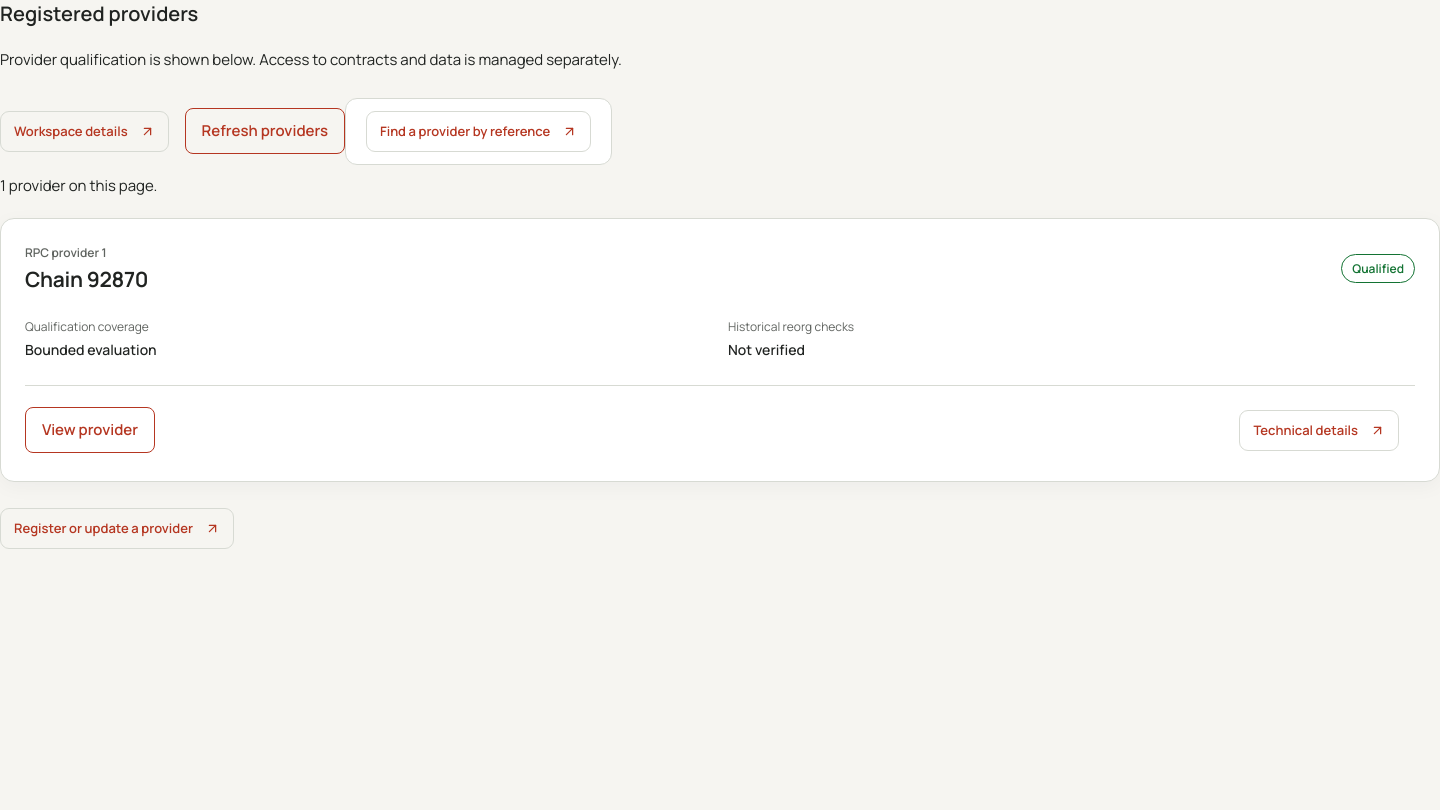
Scenario: selects an actual provider record without typing a reference or issuing a command
Expected: the heading "Chain 92870" is shown, [25, 266, 148, 294]
Expected: the text "Bounded evaluation" is shown, [25, 340, 157, 359]
Click the button with aria-label "View provider 1 for chain 92870" at (90, 430), box [25, 408, 155, 454]
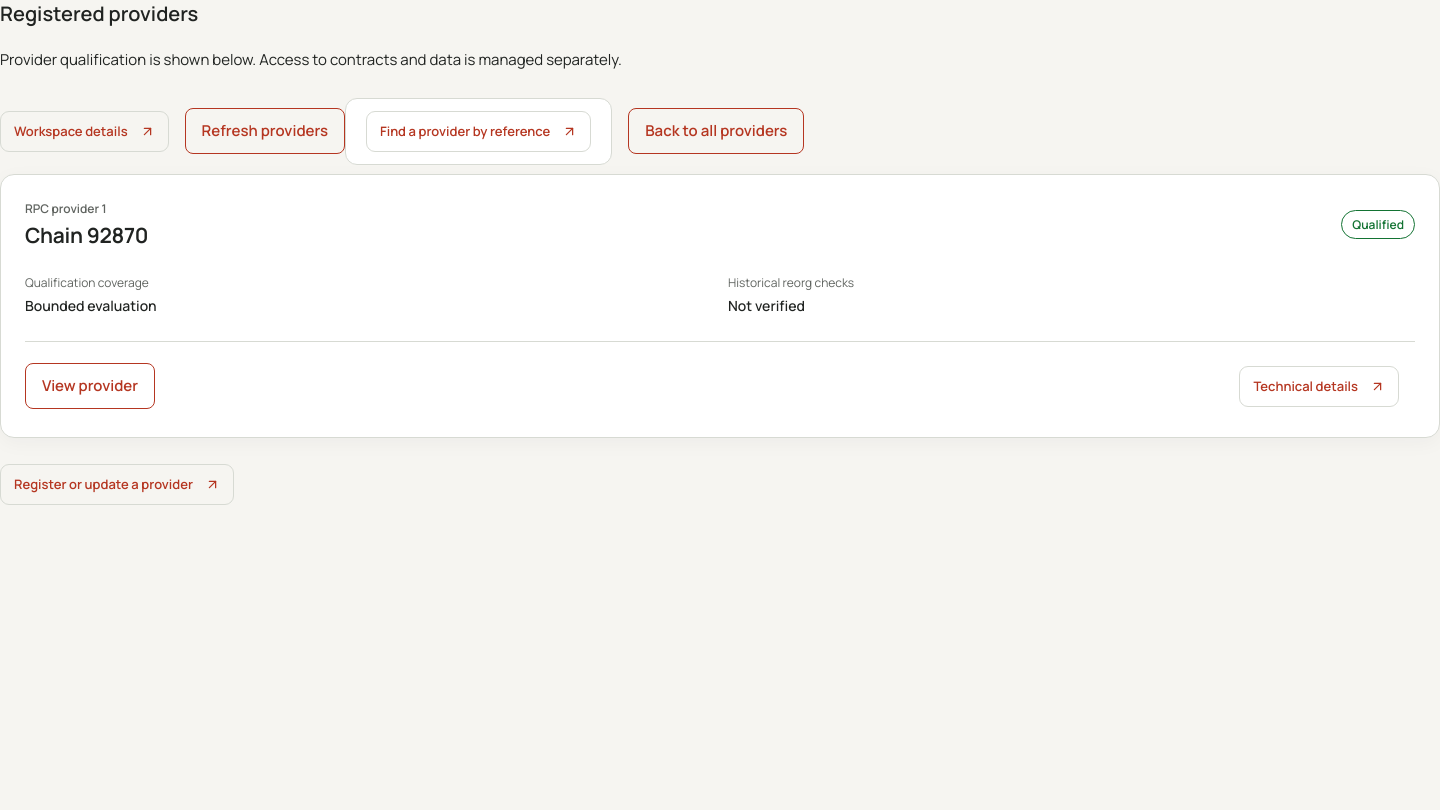
Expected: the heading "Chain 92870" is shown, [25, 222, 148, 250]
Click the button "Technical details" at (1319, 386), box [1240, 366, 1399, 407]
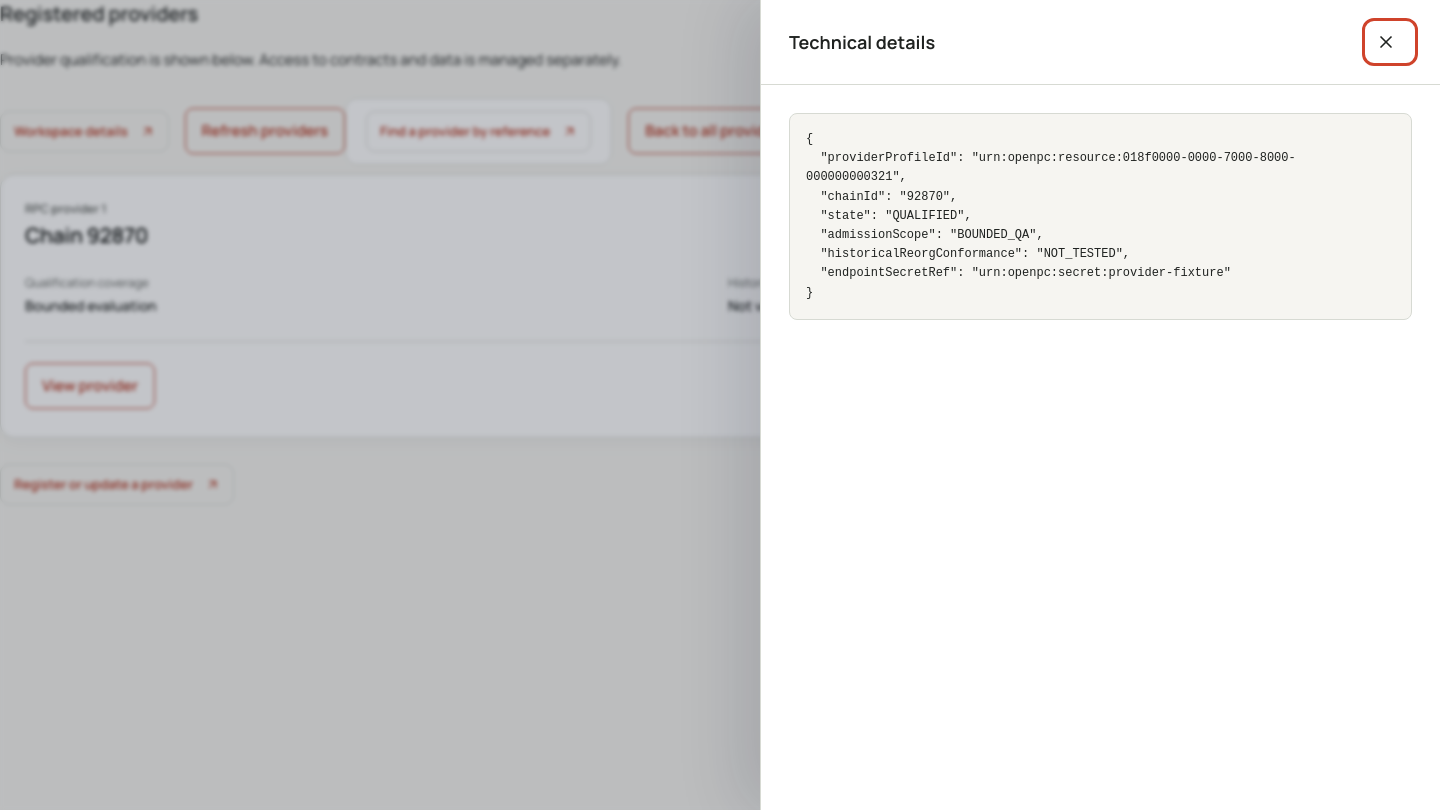
Result: the text named "Technical details for provider 1" shows "urn:openpc:resource:018f0000-0000-7000-8000-000000000321" at [806, 132, 1296, 300]
